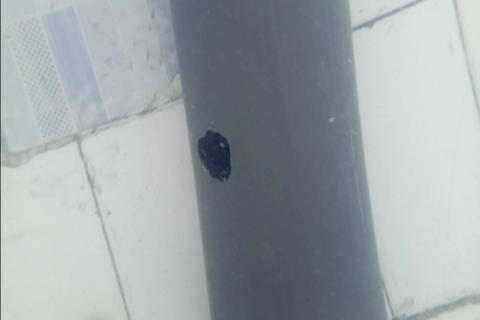kebocoran: (195, 127, 233, 182)
